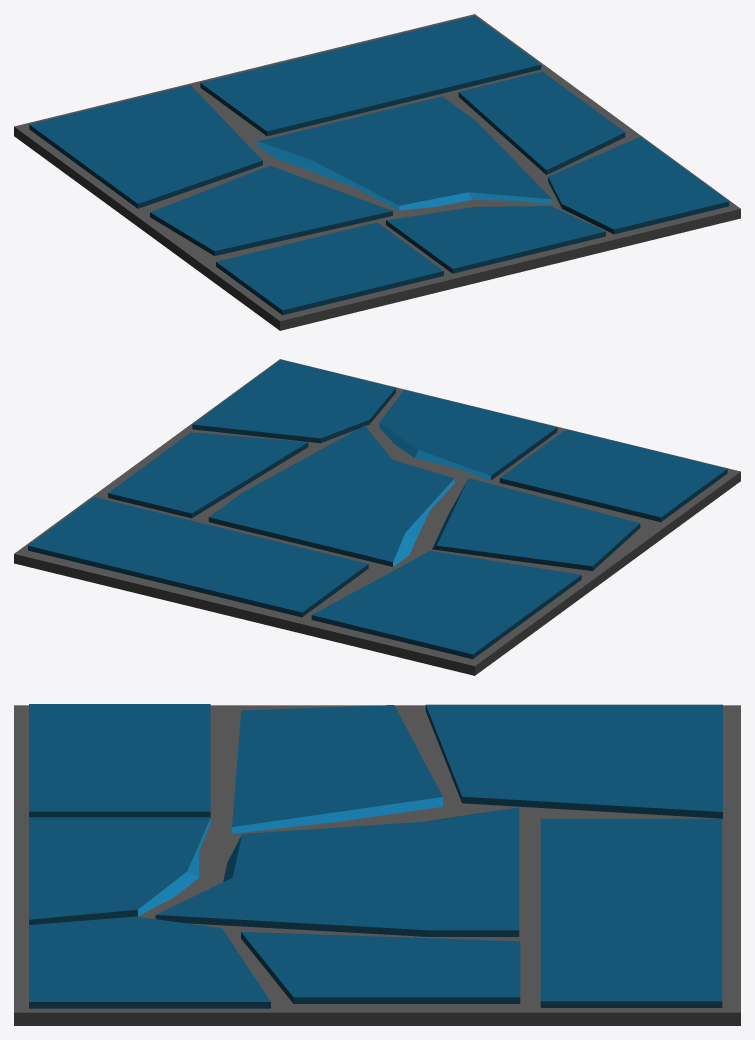
File: floor_type_04.fbx
3 renders of one model, top to bottom at view 1: azimuth 30°, elevation 25°; view 2: azimuth 150°, elevation 25°; view 3: azimuth 270°, elevation 25°, orthographic. The views are drawn at different scales.
Visible parts, largest first — view 1: floor_type_04; view 2: floor_type_04; view 3: floor_type_04.
Part boxes in pixels (left/top/right/bottom): floor_type_04: left=14, top=14, right=740, bottom=330; floor_type_04: left=14, top=359, right=740, bottom=675; floor_type_04: left=14, top=704, right=740, bottom=1025.
Bounding box in the file's own units: 200 × 6.02 × 200.
